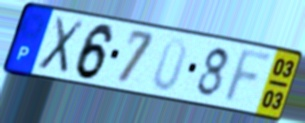0: (151, 36, 190, 93)
6: (72, 22, 119, 82)
7: (115, 27, 159, 86)
8: (193, 46, 231, 100)
F: (219, 47, 277, 106)
X: (35, 14, 87, 76)
